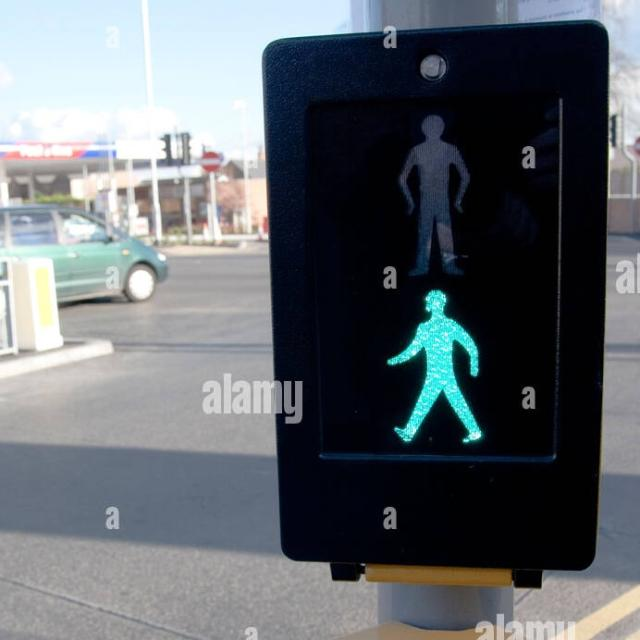green_light: (368, 287, 504, 448)
